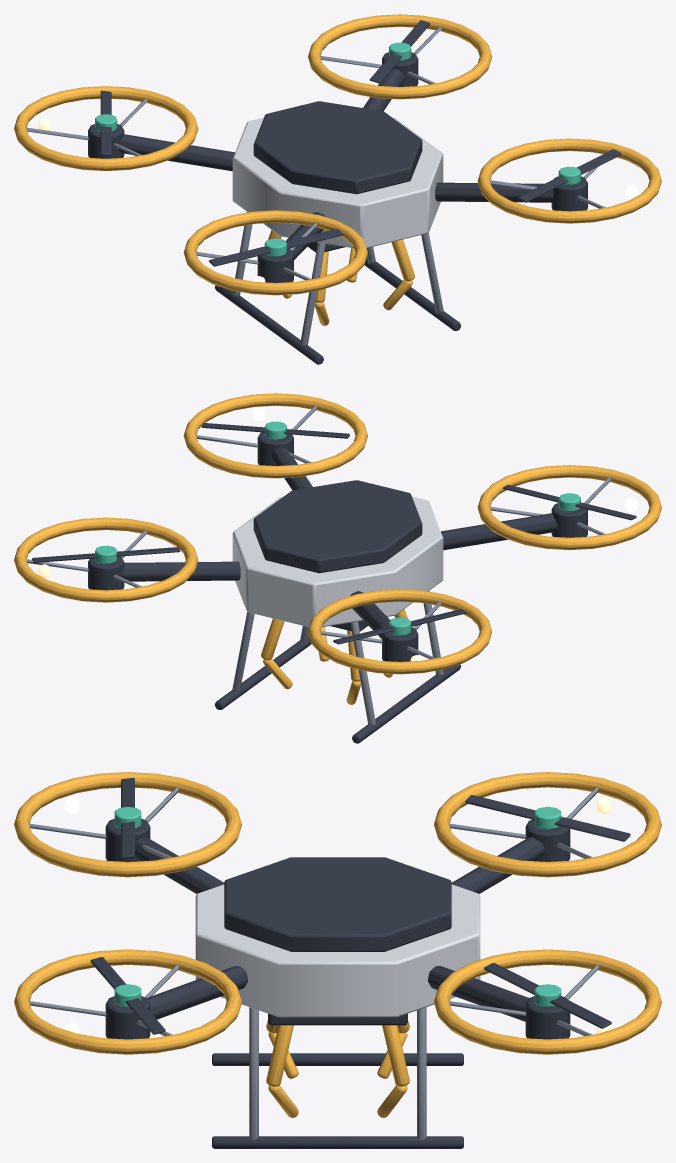
Rendered from lastdrohne.fbx.
The picture shows the model from 3 angles, top to bottom: view 1: azimuth 30°, elevation 25°; view 2: azimuth 150°, elevation 25°; view 3: azimuth 270°, elevation 25°; orthographic projection. The views are drawn at different scales.
Visible parts, largest first — view 1: lastdrohne_Koerper, lastdrohne, lastdrohne_Ladung; view 2: lastdrohne_Koerper, lastdrohne, lastdrohne_Ladung; view 3: lastdrohne_Koerper, lastdrohne, lastdrohne_Ladung.
Part boxes in pixels (box(x1,y1,x2,y2)): lastdrohne_Koerper: box(14, 14, 661, 364); lastdrohne: box(95, 20, 621, 266); lastdrohne_Ladung: box(268, 230, 414, 325); lastdrohne_Koerper: box(14, 393, 661, 743); lastdrohne: box(32, 421, 636, 644); lastdrohne_Ladung: box(261, 609, 407, 704); lastdrohne_Koerper: box(14, 772, 661, 1148); lastdrohne: box(90, 778, 630, 1034); lastdrohne_Ladung: box(266, 1013, 409, 1117).
Size of the model in its own units: 4.63 by 1.66 by 4.63.
